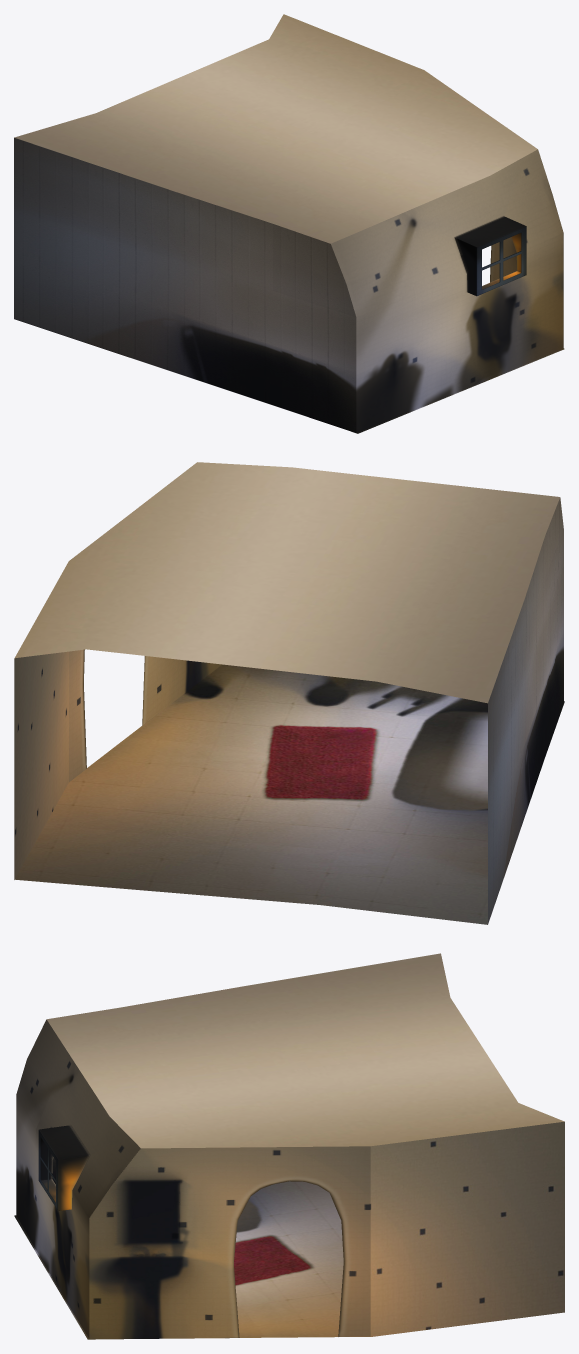
The model's file is bathroom_room.dae.
3 views of the same model, one above another, from view 1: azimuth 30°, elevation 25°; view 2: azimuth 150°, elevation 25°; view 3: azimuth 270°, elevation 25° (orthographic). The views are drawn at different scales.
Parts seen in each view (by area): view 1: rightwall, ceiling, backwall, leftwall; view 2: floor, ceiling, rightwall, leftwall_back1, leftwall; view 3: ceiling, leftwall_back1, leftwall, backwall, floor.
Boxes of the visible parts, box(x1,y1,x2,y2) form: rightwall: box(14, 137, 356, 432); ceiling: box(14, 14, 537, 243); backwall: box(331, 149, 563, 432); leftwall: box(490, 233, 563, 348); floor: box(14, 664, 564, 924); ceiling: box(15, 462, 559, 703); rightwall: box(488, 497, 563, 923); leftwall_back1: box(14, 651, 68, 879); leftwall: box(69, 649, 221, 782); ceiling: box(47, 953, 564, 1148); leftwall_back1: box(370, 1121, 564, 1336); leftwall: box(89, 1146, 370, 1339); backwall: box(16, 1019, 140, 1338); floor: box(14, 1181, 564, 1339).
Size of the model in its own units: 31.23 by 14.19 by 37.14.
Materials: 6 (6 with a texture image).
